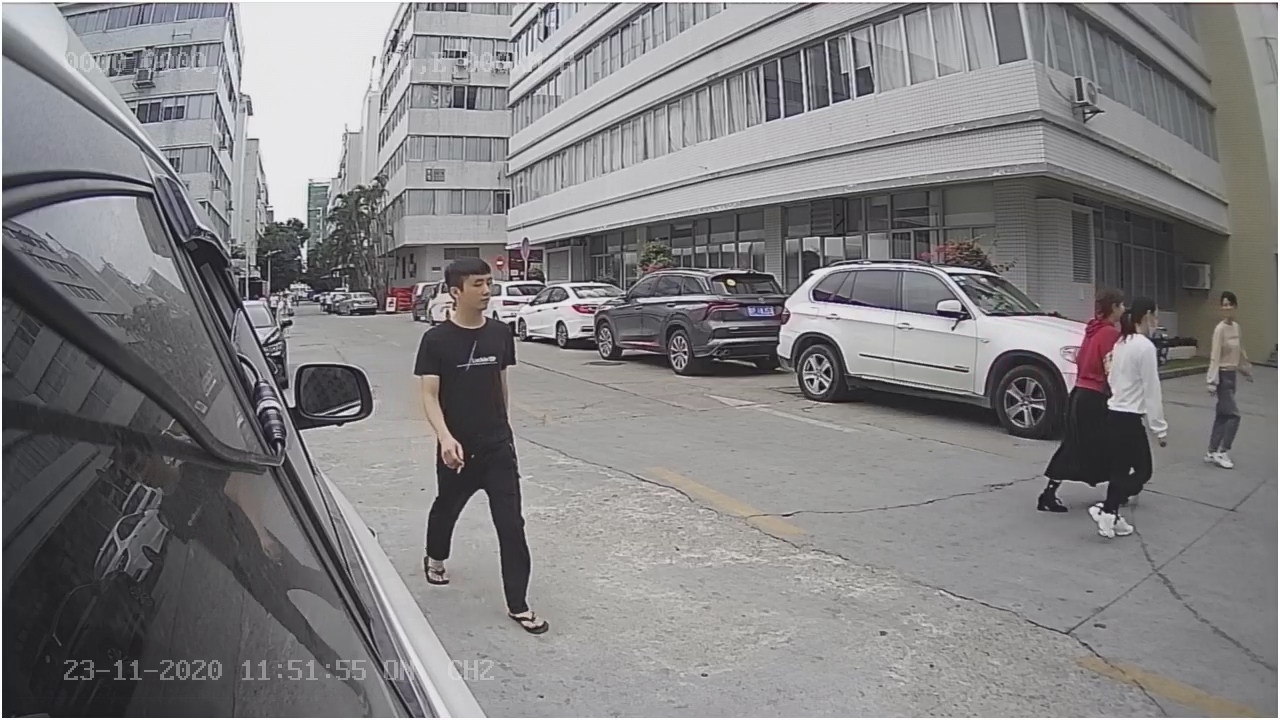person: (406, 255, 556, 633), (1089, 293, 1164, 537), (1200, 289, 1257, 473)
